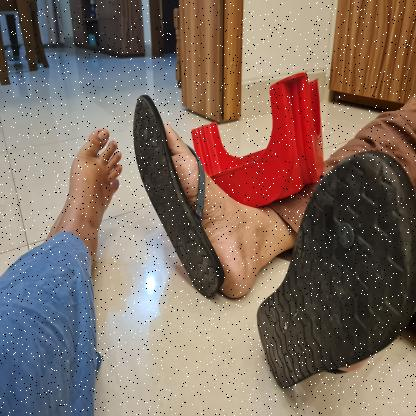leg: (132, 92, 295, 304), (44, 118, 126, 268)
